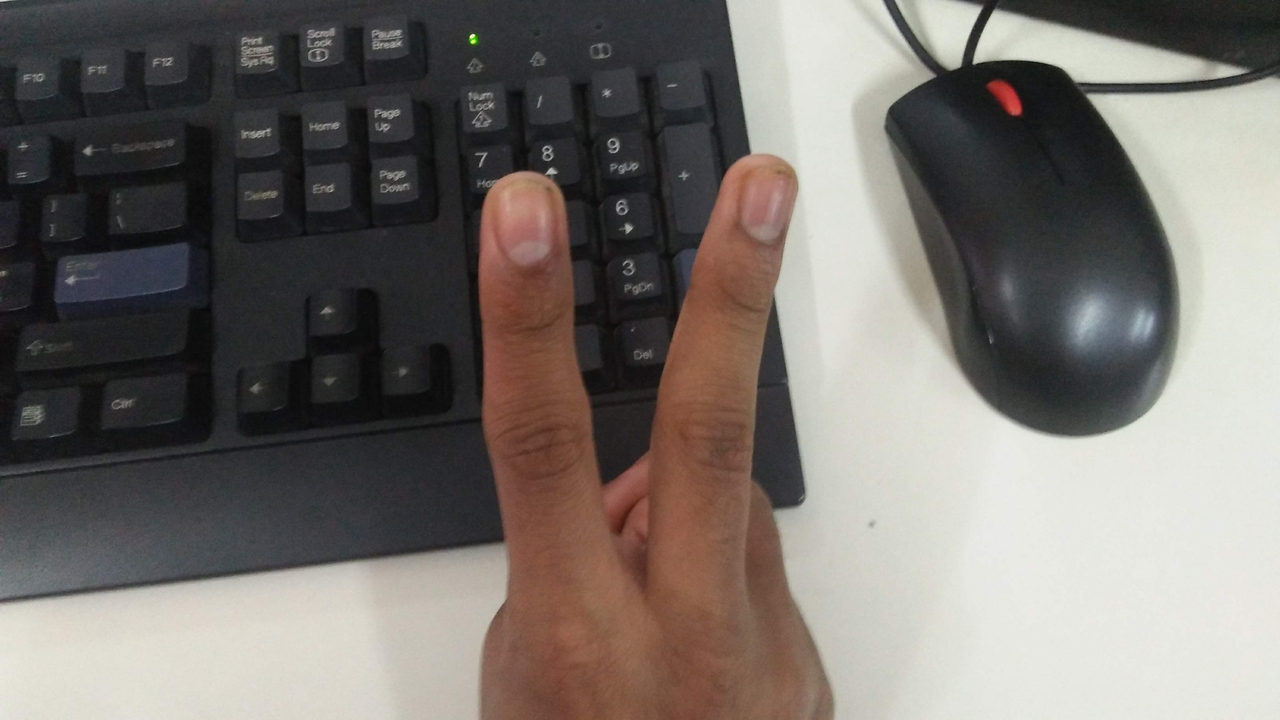fingertip: (716, 152, 798, 228), (480, 176, 564, 250)
